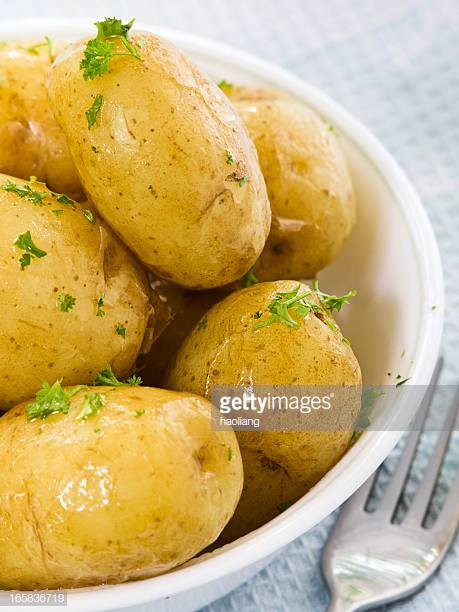boiled potatoes: (65, 49, 334, 372), (3, 376, 185, 548)
